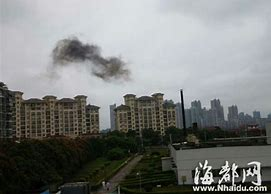smoke: (43, 36, 130, 83)
